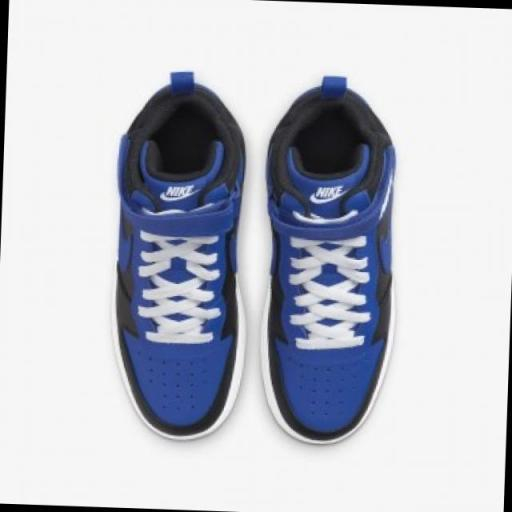Nike: (306, 192, 342, 205), (166, 183, 194, 198)
